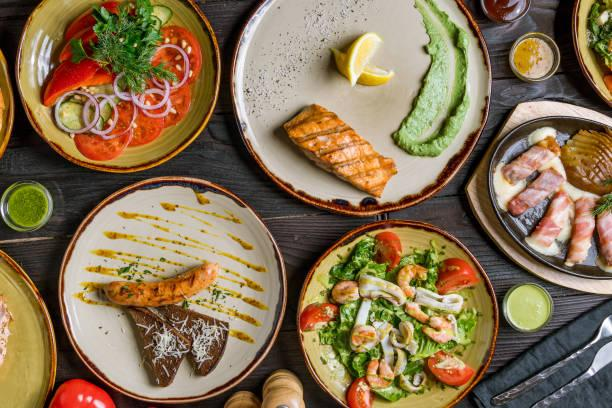Braised Crucian Carp: (242, 7, 493, 210), (61, 181, 283, 396), (307, 218, 499, 408), (11, 4, 222, 171), (477, 98, 612, 292)
